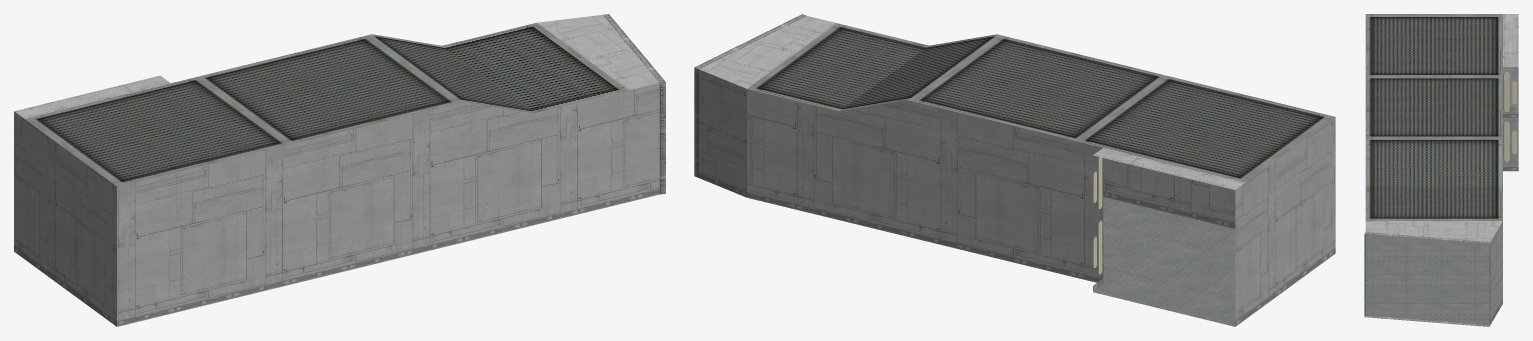
File: mun_all_cloning_s01_r5_ramptop_mesh_ramptop.fbx
3 renders of one model, left to right at view 1: azimuth 30°, elevation 25°; view 2: azimuth 150°, elevation 25°; view 3: azimuth 270°, elevation 25°, orthographic. The views are drawn at different scales.
Parts seen in each view (by area): view 1: mesh_node; view 2: mesh_node; view 3: mesh_node.
Part boxes in pixels (<box>): mesh_node: <box>14,14,665,326</box>; mesh_node: <box>694,14,1335,326</box>; mesh_node: <box>1364,14,1518,326</box>.
Size of the model in its own units: 15.72 by 3.67 by 4.91.
